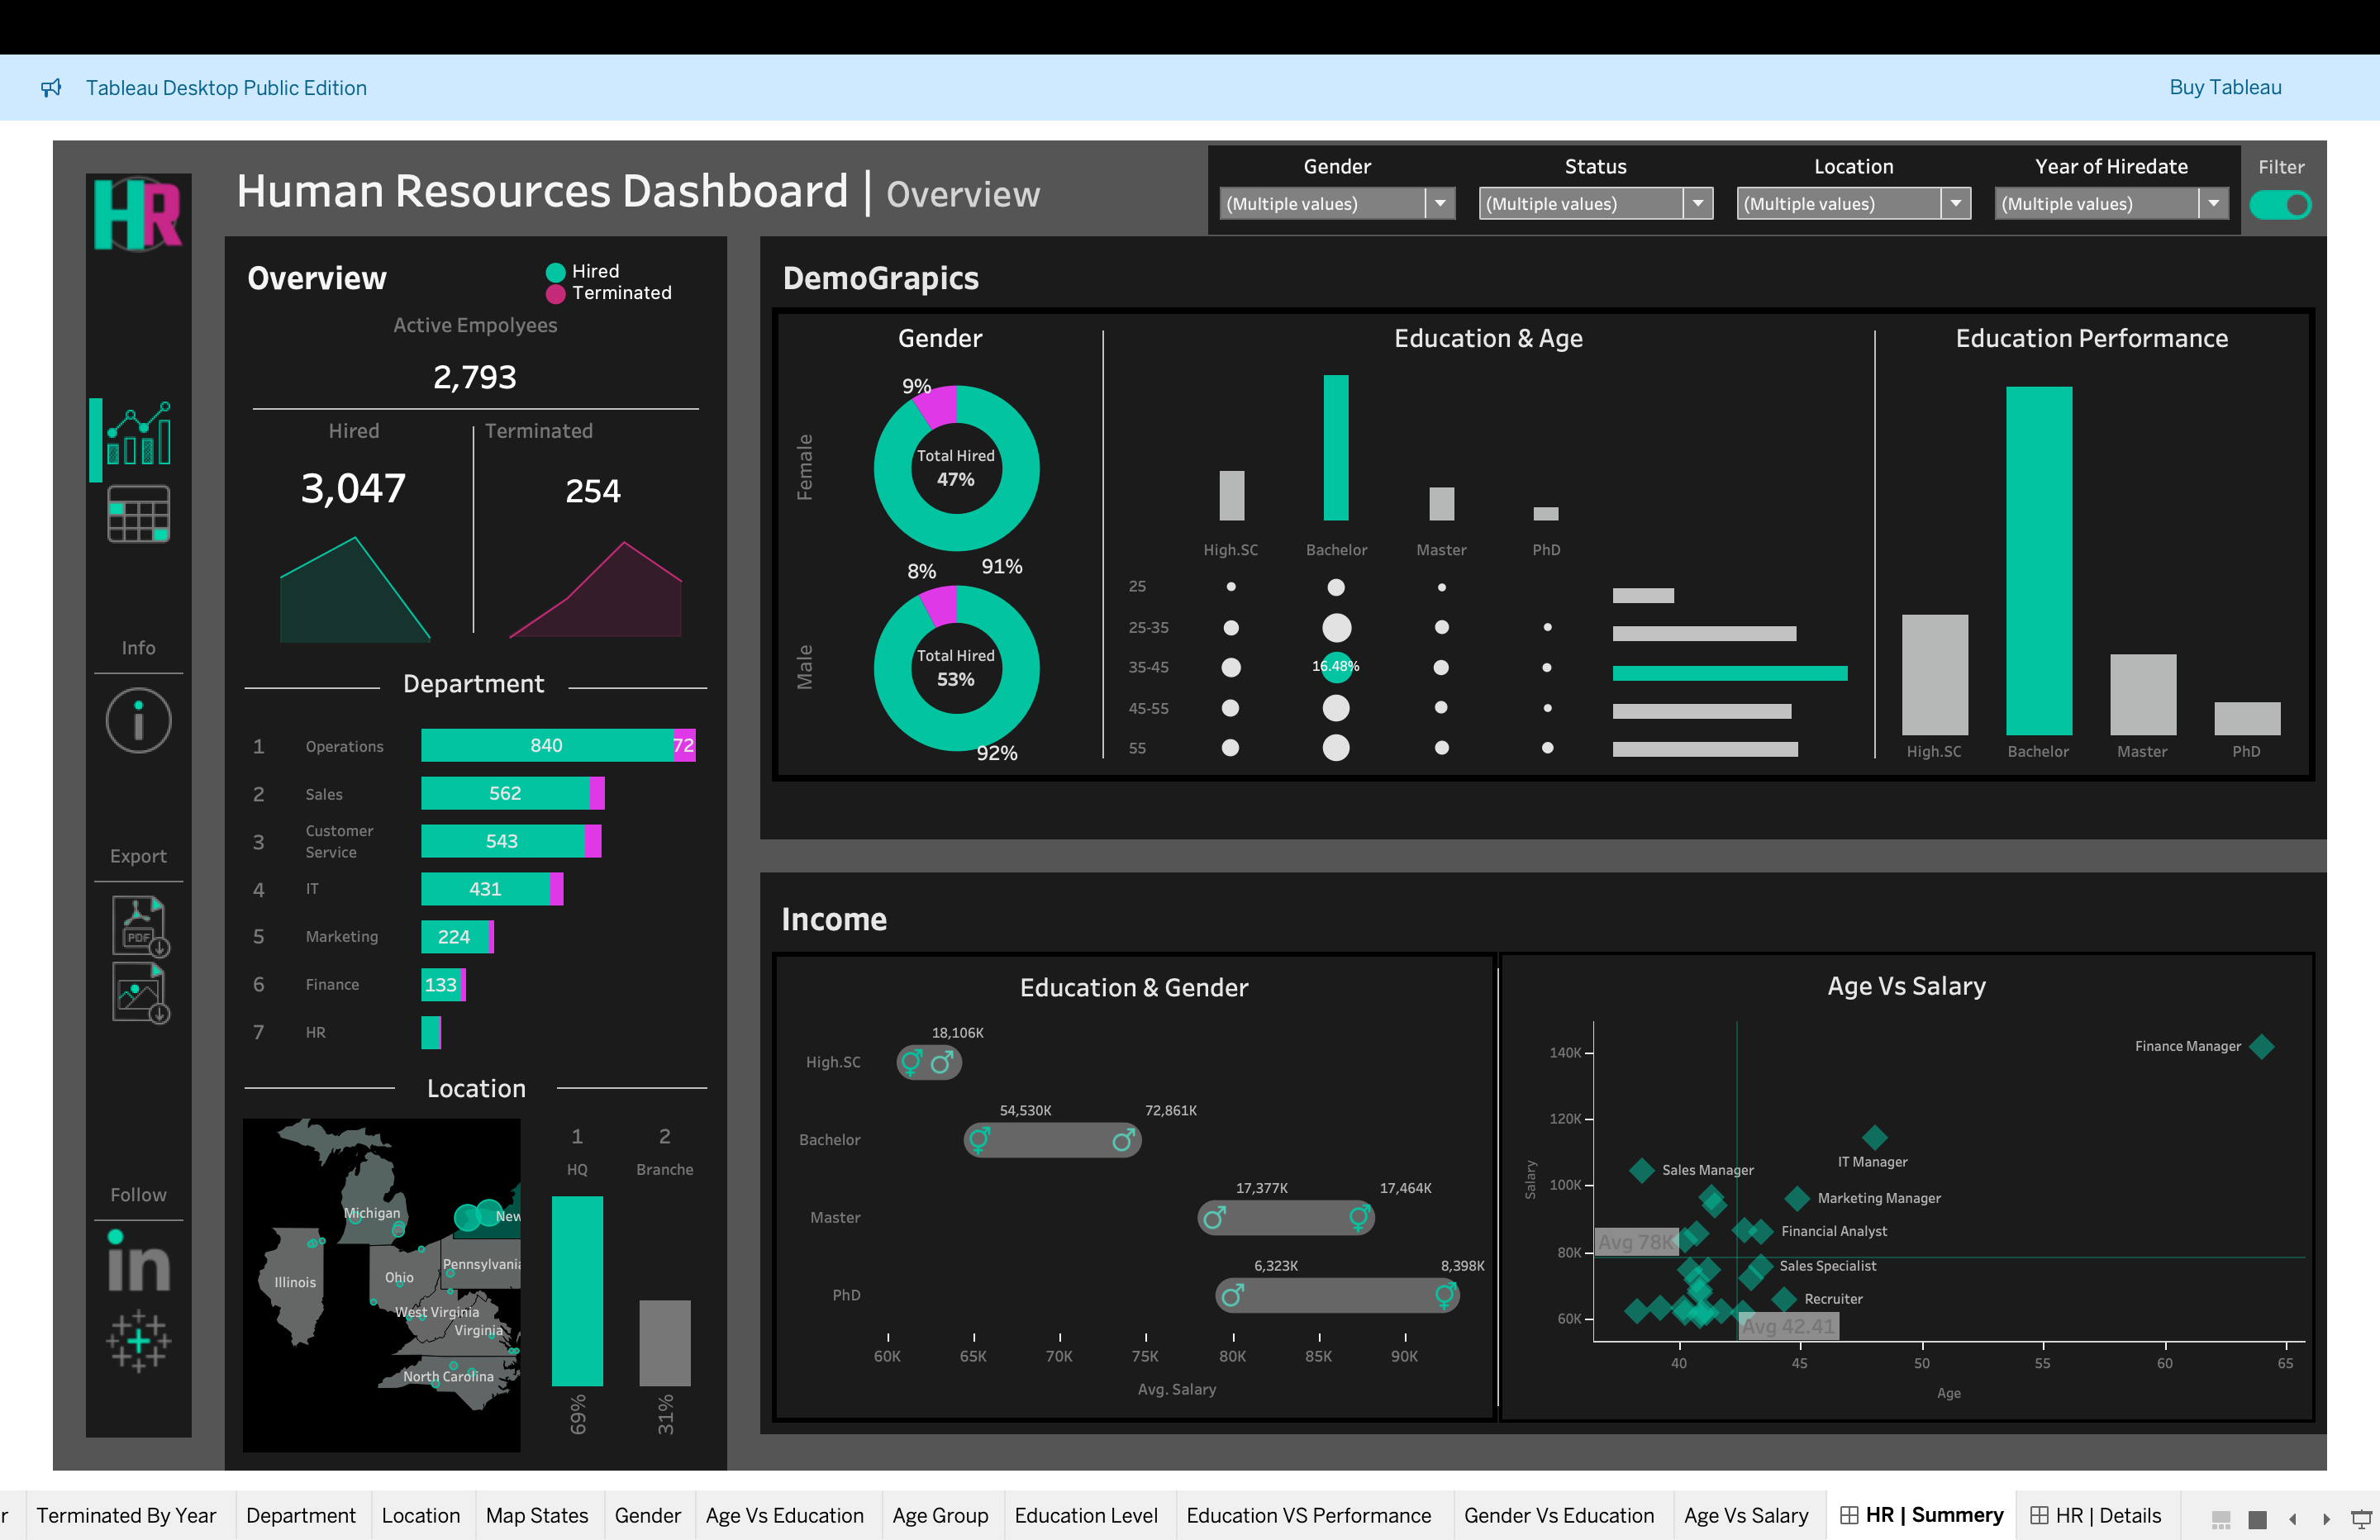

The dashboard page shown, as its layout file describes it:
{"tool":"tableau","page":{"name":"HR | Summery","canvas":[1000,1000],"units":"permille","ordinal":1},"visuals":[{"type":"blank","box":[70,0,923.6,309.4]},{"type":"text","box":[82.9,15,482.9,72.5]},{"type":"blank","box":[565.7,15,425.7,72.5]},{"type":"text","box":[960,16.2,40.7,33.8]},{"type":"filter","title":"Age Vs Salary","param":"[federated.06mr3i618qxdck11wm2he1a55tez].[none:Gender:nk]","box":[507.9,17.5,112.1,66.2]},{"type":"filter","title":"Gender Vs Education","param":"[federated.06mr3i618qxdck11wm2he1a55tez].[none:Calculation_112590011225538560:nk","box":[620,17.5,111.4,66.2]},{"type":"filter","title":"Education VS Performance","param":"[federated.06mr3i618qxdck11wm2he1a55tez].[none:Calculation_264797603350908930:nk","box":[731.4,17.5,111.4,66.2]},{"type":"filter","title":"Age Vs Education","param":"[federated.06mr3i618qxdck11wm2he1a55tez].[yr:Hiredate:ok]","box":[842.9,17.5,111.4,66.2]},{"type":"image","param":"Image/Logo.png","box":[22.9,41.2,45.7,58.8]},{"type":"dashboard-object","box":[957.9,42.5,27.9,40]},{"type":"text","box":[218.6,91.2,67.1,52.5]},{"type":"text","box":[87.9,96.2,207.1,42.5]},{"type":"text","box":[319.3,96.2,667.1,42.5]},{"type":"blank","box":[22.9,100,45.7,112.5]},{"type":"text","box":[87.9,138.8,207.1,31.2]},{"type":"text","box":[322.1,146.2,140,36.2]},{"type":"blank","box":[462.1,146.2,0.7,348.8]},{"type":"text","box":[466.4,146.2,325.7,36.2]},{"type":"blank","box":[795.7,146.2,0.7,348.8]},{"type":"text","box":[796.4,146.2,187.2,36.2]},{"type":"worksheet","title":"Total Acitve","mark":"Automatic","box":[87.9,170,207.1,47.5]},{"type":"worksheet","title":"Gender","mark":"Pie","rows":["Gender"],"cols":["Calculation_264797603359240198","Calculation_264797603359240198"],"box":[322.1,182.5,140,312.5]},{"type":"worksheet","title":"Education Level","mark":"Bar","rows":["Calculation_238761167989252096"],"cols":["Education Level"],"box":[466.4,182.5,325.7,125]},{"type":"worksheet","title":"Education VS Performance","mark":"Bar","rows":["Calculation_238761167989252096"],"cols":["Education Level"],"box":[796.4,182.5,187.2,312.5]},{"type":"blank","box":[24.3,202.5,5.7,61.2]},{"type":"dashboard-object","box":[23.6,212.5,44.3,47.5]},{"type":"blank","box":[87.9,217.5,207.1,1.2]},{"type":"text","box":[87.9,218.8,102.1,31.2]},{"type":"blank","box":[190,218.8,0.7,181.2]},{"type":"text","box":[190.7,218.8,104.3,31.2]},{"type":"worksheet","title":"Total Hired","mark":"Automatic","box":[87.9,250,102.1,55]},{"type":"worksheet","title":"Total Terminated","mark":"Automatic","box":[190.7,250,104.3,58.8]},{"type":"blank","box":[23.6,260,44.3,13.8]},{"type":"dashboard-object","box":[23.6,273.8,44.3,47.5]},{"type":"worksheet","title":"Hired By Year","mark":"Line","rows":["Calculation_238761167989252096","Calculation_238761167989252096"],"cols":["Hiredate"],"box":[87.9,305,102.1,95]},{"type":"worksheet","title":"Age Vs Education","mark":"Circle","rows":["Calculation_264797603363221513"],"cols":["Education Level"],"box":[466.4,307.5,213.6,187.5]},{"type":"worksheet","title":"Age Group","mark":"Bar","rows":["Calculation_264797603363221513"],"cols":["Calculation_238761167989252096"],"box":[680,307.5,112.1,187.5]},{"type":"worksheet","title":"Terminated By Year","mark":"Line","rows":["Calculation_238761167990038529","Calculation_238761167990038529"],"cols":["Termdate"],"box":[190.7,308.8,104.3,91.2]},{"type":"text","box":[70,309.4,923.6,381.2]},{"type":"blank","box":[23.6,321.2,44.3,62.5]},{"type":"text","box":[23.6,383.8,44.3,28.8]},{"type":"blank","box":[87.9,400,65.7,50]},{"type":"text","box":[153.6,400,74.3,50]},{"type":"blank","box":[227.8,400,67.1,50]},{"type":"blank","box":[23.6,412.5,44.3,11.2]},{"type":"dashboard-object","box":[23.6,423.8,44.3,55]},{"type":"worksheet","title":"Department","mark":"Bar","rows":["Calculation_264797603349704705","Department"],"cols":["Calculation_238761167989252096"],"box":[87.9,450,207.1,238.7]},{"type":"blank","box":[23.6,478.8,44.3,62.5]},{"type":"text","box":[23.6,541.2,44.3,28.8]},{"type":"text","box":[319.3,568.8,667.1,51.2]},{"type":"blank","box":[23.6,570,44.3,11.2]},{"type":"dashboard-object","box":[23.6,581.2,44.3,53.8]},{"type":"blank","box":[632.9,620,0.7,356.2]},{"type":"text","box":[635,622.5,350,45]},{"type":"text","box":[321.4,623.8,309.3,45]},{"type":"dashboard-object","box":[23.6,635,44.3,50]},{"type":"worksheet","title":"Age Vs Salary","mark":"Shape","rows":["Salary"],"cols":["Calculation_264797603362271240"],"box":[635,667.5,350,306.2]},{"type":"worksheet","title":"Gender Vs Education","mark":"Line","rows":["Education Level"],"cols":["Salary","Salary"],"box":[321.4,668.8,309.3,303.8]},{"type":"blank","box":[23.6,685,44.3,112.5]},{"type":"blank","box":[87.9,688.7,71.9,37.5]},{"type":"text","box":[159.8,688.7,63.3,37.5]},{"type":"blank","box":[223.1,688.7,71.9,37.5]},{"type":"blank","box":[70,690.6,923.6,309.4]},{"type":"worksheet","title":"Map States","mark":"Automatic","box":[87.9,726.2,125.7,250.1]},{"type":"worksheet","title":"Location","mark":"Bar","rows":["Calculation_238761167989252096"],"cols":["Calculation_264797603350908930","Calculation1"],"box":[213.6,726.2,81.4,250.1]},{"type":"text","box":[23.6,797.5,44.3,28.8]},{"type":"blank","box":[23.6,826.2,44.3,11.2]},{"type":"image","param":"Image/contact-linkedin.png","box":[23.6,837.5,44.3,50]},{"type":"blank","box":[23.6,887.5,44.3,11.2]},{"type":"image","param":"Image/contact-public.png","box":[23.6,898.8,44.3,50]}]}

Visuals, with their boxes on the dashboard's canvas, which has no fixed pixel size, in thousandths of its width and height (x1, y1, x2, y2). These are canvas units, not pixel positions in the 2380x1540 screenshot, which may show the page scaled, cropped or inside an application window:
blank: (x1=70, y1=0, x2=994, y2=309)
text: (x1=83, y1=15, x2=566, y2=88)
blank: (x1=566, y1=15, x2=991, y2=88)
text: (x1=960, y1=16, x2=1001, y2=50)
"Age Vs Salary" filter: (x1=508, y1=18, x2=620, y2=84)
"Gender Vs Education" filter: (x1=620, y1=18, x2=731, y2=84)
"Education VS Performance" filter: (x1=731, y1=18, x2=843, y2=84)
"Age Vs Education" filter: (x1=843, y1=18, x2=954, y2=84)
image: (x1=23, y1=41, x2=69, y2=100)
dashboard-object: (x1=958, y1=42, x2=986, y2=82)
text: (x1=219, y1=91, x2=286, y2=144)
text: (x1=88, y1=96, x2=295, y2=139)
text: (x1=319, y1=96, x2=986, y2=139)
blank: (x1=23, y1=100, x2=69, y2=212)
text: (x1=88, y1=139, x2=295, y2=170)
text: (x1=322, y1=146, x2=462, y2=182)
blank: (x1=462, y1=146, x2=463, y2=495)
text: (x1=466, y1=146, x2=792, y2=182)
blank: (x1=796, y1=146, x2=796, y2=495)
text: (x1=796, y1=146, x2=984, y2=182)
"Total Acitve" worksheet: (x1=88, y1=170, x2=295, y2=218)
"Gender" worksheet (Pie marks): (x1=322, y1=182, x2=462, y2=495)
"Education Level" worksheet (Bar marks): (x1=466, y1=182, x2=792, y2=308)
"Education VS Performance" worksheet (Bar marks): (x1=796, y1=182, x2=984, y2=495)
blank: (x1=24, y1=202, x2=30, y2=264)
dashboard-object: (x1=24, y1=212, x2=68, y2=260)
blank: (x1=88, y1=218, x2=295, y2=219)
text: (x1=88, y1=219, x2=190, y2=250)
blank: (x1=190, y1=219, x2=191, y2=400)
text: (x1=191, y1=219, x2=295, y2=250)
"Total Hired" worksheet: (x1=88, y1=250, x2=190, y2=305)
"Total Terminated" worksheet: (x1=191, y1=250, x2=295, y2=309)
blank: (x1=24, y1=260, x2=68, y2=274)
dashboard-object: (x1=24, y1=274, x2=68, y2=321)
"Hired By Year" worksheet (Line marks): (x1=88, y1=305, x2=190, y2=400)
"Age Vs Education" worksheet (Circle marks): (x1=466, y1=308, x2=680, y2=495)
"Age Group" worksheet (Bar marks): (x1=680, y1=308, x2=792, y2=495)
"Terminated By Year" worksheet (Line marks): (x1=191, y1=309, x2=295, y2=400)
text: (x1=70, y1=309, x2=994, y2=691)
blank: (x1=24, y1=321, x2=68, y2=384)
text: (x1=24, y1=384, x2=68, y2=413)
blank: (x1=88, y1=400, x2=154, y2=450)
text: (x1=154, y1=400, x2=228, y2=450)
blank: (x1=228, y1=400, x2=295, y2=450)
blank: (x1=24, y1=412, x2=68, y2=424)
dashboard-object: (x1=24, y1=424, x2=68, y2=479)
"Department" worksheet (Bar marks): (x1=88, y1=450, x2=295, y2=689)
blank: (x1=24, y1=479, x2=68, y2=541)
text: (x1=24, y1=541, x2=68, y2=570)
text: (x1=319, y1=569, x2=986, y2=620)
blank: (x1=24, y1=570, x2=68, y2=581)
dashboard-object: (x1=24, y1=581, x2=68, y2=635)
blank: (x1=633, y1=620, x2=634, y2=976)
text: (x1=635, y1=622, x2=985, y2=668)
text: (x1=321, y1=624, x2=631, y2=669)
dashboard-object: (x1=24, y1=635, x2=68, y2=685)
"Age Vs Salary" worksheet (Shape marks): (x1=635, y1=668, x2=985, y2=974)
"Gender Vs Education" worksheet (Line marks): (x1=321, y1=669, x2=631, y2=973)
blank: (x1=24, y1=685, x2=68, y2=798)
blank: (x1=88, y1=689, x2=160, y2=726)
text: (x1=160, y1=689, x2=223, y2=726)
blank: (x1=223, y1=689, x2=295, y2=726)
blank: (x1=70, y1=691, x2=994, y2=1000)
"Map States" worksheet: (x1=88, y1=726, x2=214, y2=976)
"Location" worksheet (Bar marks): (x1=214, y1=726, x2=295, y2=976)
text: (x1=24, y1=798, x2=68, y2=826)
blank: (x1=24, y1=826, x2=68, y2=837)
image: (x1=24, y1=838, x2=68, y2=888)
blank: (x1=24, y1=888, x2=68, y2=899)
image: (x1=24, y1=899, x2=68, y2=949)
